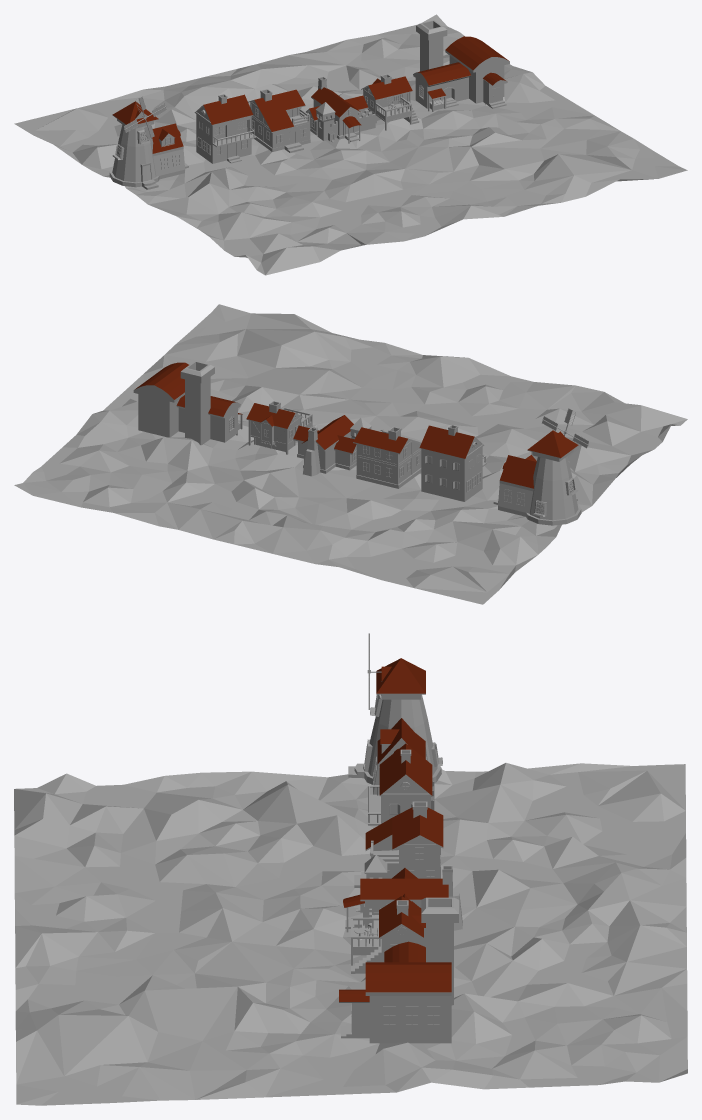
Rendered from Houses.obj.
3 views of the same model, one above another, from view 1: azimuth 30°, elevation 25°; view 2: azimuth 150°, elevation 25°; view 3: azimuth 270°, elevation 25° (orthographic). The views are drawn at different scales.
Visible parts, largest first — view 1: Fountain.001_Plane.007, House-5_IvyLeaf.004, House-3.002_IvyLeaf.025, House-3.001_IvyLeaf.019, House-3_IvyLeaf.023, House-1_IvyLeaf.002, House-2_IvyLeaf.000, Cube.001_Cube, Cube.023_Cube.124; view 2: Fountain.001_Plane.007, House-5_IvyLeaf.004, House-3.002_IvyLeaf.025, House-3.001_IvyLeaf.019, House-3_IvyLeaf.023, House-2_IvyLeaf.000, House-1_IvyLeaf.002; view 3: Fountain.001_Plane.007, House-5_IvyLeaf.004, House-3.002_IvyLeaf.025, House-3_IvyLeaf.023, House-3.001_IvyLeaf.019, House-1_IvyLeaf.002, House-2_IvyLeaf.000.
Part boxes in pixels (x1=…): Fountain.001_Plane.007: x1=14, y1=14, x2=687, y2=275; House-5_IvyLeaf.004: x1=413, y1=20, x2=509, y2=111; House-3.002_IvyLeaf.025: x1=109, y1=101, x2=188, y2=189; House-3.001_IvyLeaf.019: x1=194, y1=94, x2=255, y2=163; House-3_IvyLeaf.023: x1=248, y1=89, x2=310, y2=152; House-1_IvyLeaf.002: x1=361, y1=74, x2=419, y2=130; House-2_IvyLeaf.000: x1=306, y1=76, x2=368, y2=143; Cube.001_Cube: x1=315, y1=102, x2=335, y2=142; Cube.023_Cube.124: x1=124, y1=96, x2=166, y2=139; Fountain.001_Plane.007: x1=14, y1=304, x2=687, y2=604; House-5_IvyLeaf.004: x1=133, y1=361, x2=242, y2=445; House-3.002_IvyLeaf.025: x1=493, y1=430, x2=581, y2=525; House-3.001_IvyLeaf.019: x1=419, y1=425, x2=486, y2=501; House-3_IvyLeaf.023: x1=353, y1=426, x2=421, y2=488; House-2_IvyLeaf.000: x1=293, y1=415, x2=356, y2=476; House-1_IvyLeaf.002: x1=246, y1=401, x2=312, y2=454; Fountain.001_Plane.007: x1=14, y1=763, x2=687, y2=1105; House-5_IvyLeaf.004: x1=339, y1=897, x2=458, y2=1043; House-3.002_IvyLeaf.025: x1=348, y1=658, x2=442, y2=794; House-3_IvyLeaf.023: x1=354, y1=801, x2=443, y2=887; House-3.001_IvyLeaf.019: x1=368, y1=743, x2=434, y2=825; House-1_IvyLeaf.002: x1=351, y1=896, x2=425, y2=973; House-2_IvyLeaf.000: x1=343, y1=865, x2=462, y2=932.
Bounding box in the file's own units: 193 × 38.93 × 160.
